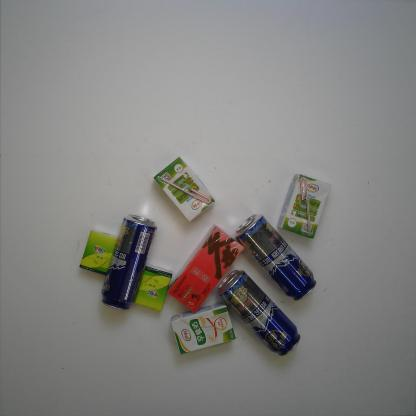Alcohol: (235, 213, 318, 301), (218, 270, 301, 356), (102, 214, 158, 310)
Instant Drink: (167, 224, 246, 314)
Milk: (152, 156, 216, 222), (277, 174, 332, 238), (171, 301, 236, 355)
Tissue: (78, 230, 119, 276), (134, 264, 172, 312)
